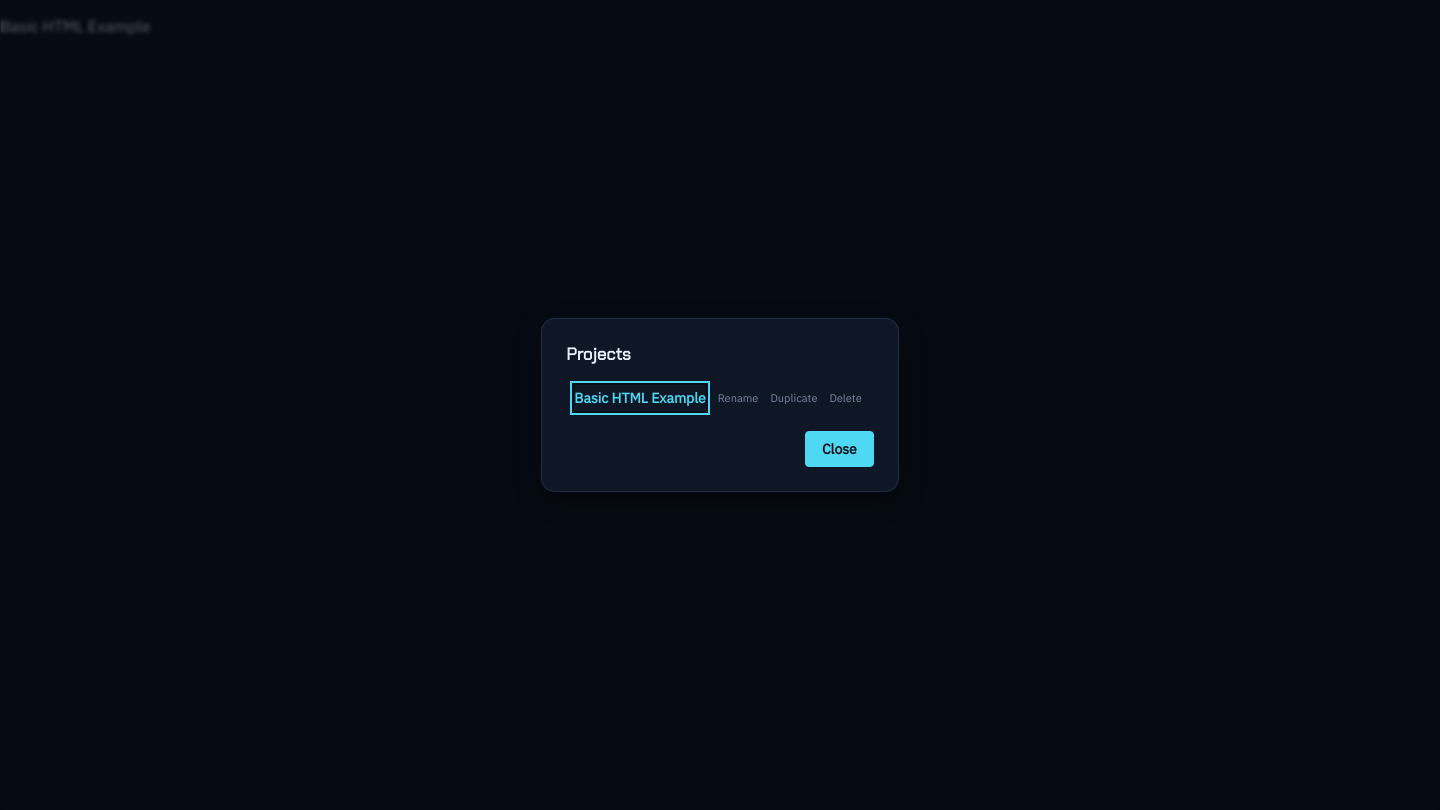
ProjectSwitcherDialog › duplicates a project
The image size is (1440, 810).
Click the button with aria-label "Duplicate Basic HTML Example" at (794, 398), box [766, 387, 821, 409]
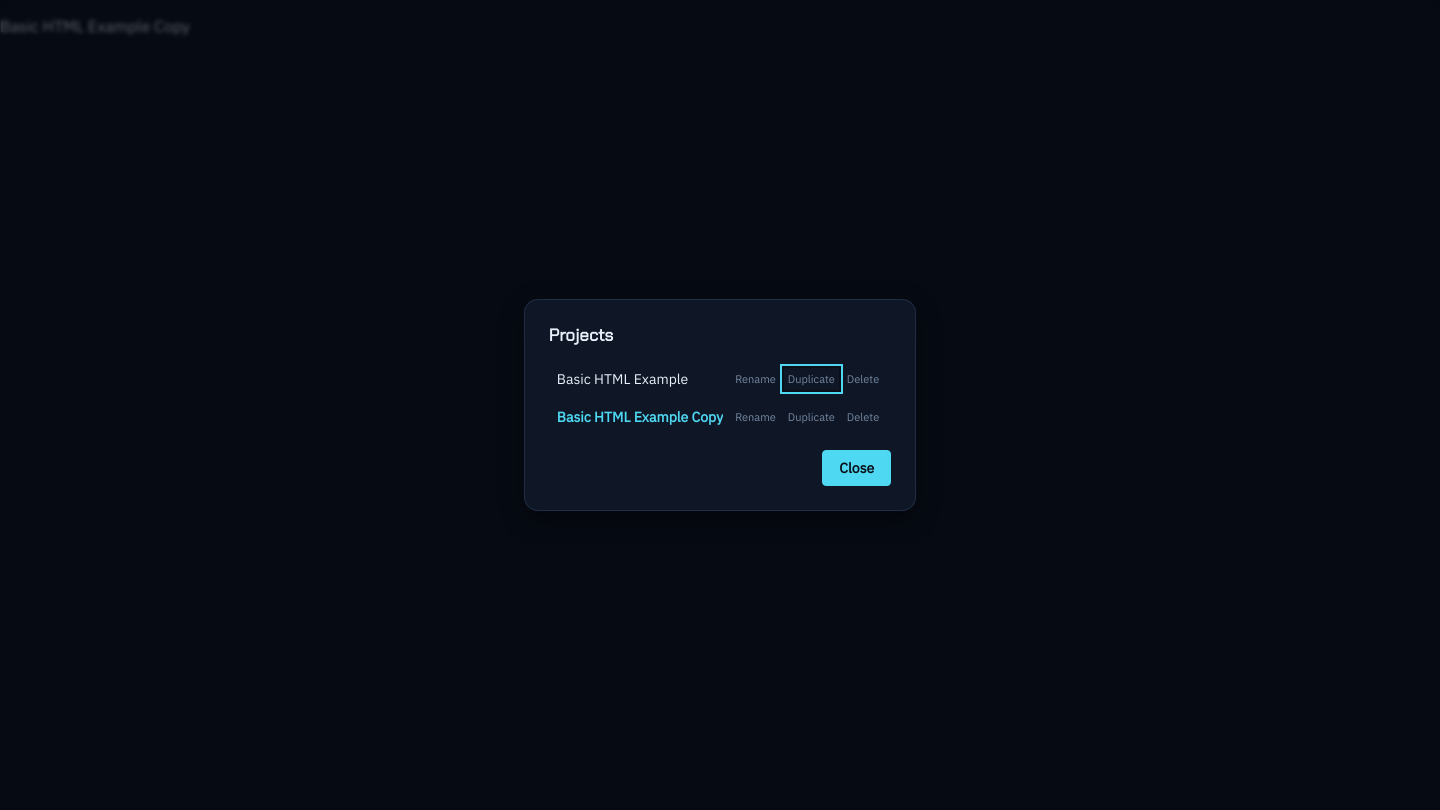
Expected: the button "Basic HTML Example Copy" is shown, [557, 404, 723, 430]
